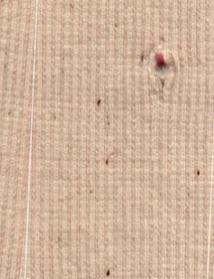hole: (140, 42, 184, 84)
stain: (187, 163, 210, 190), (88, 89, 110, 112), (96, 258, 118, 279), (99, 152, 119, 175)
